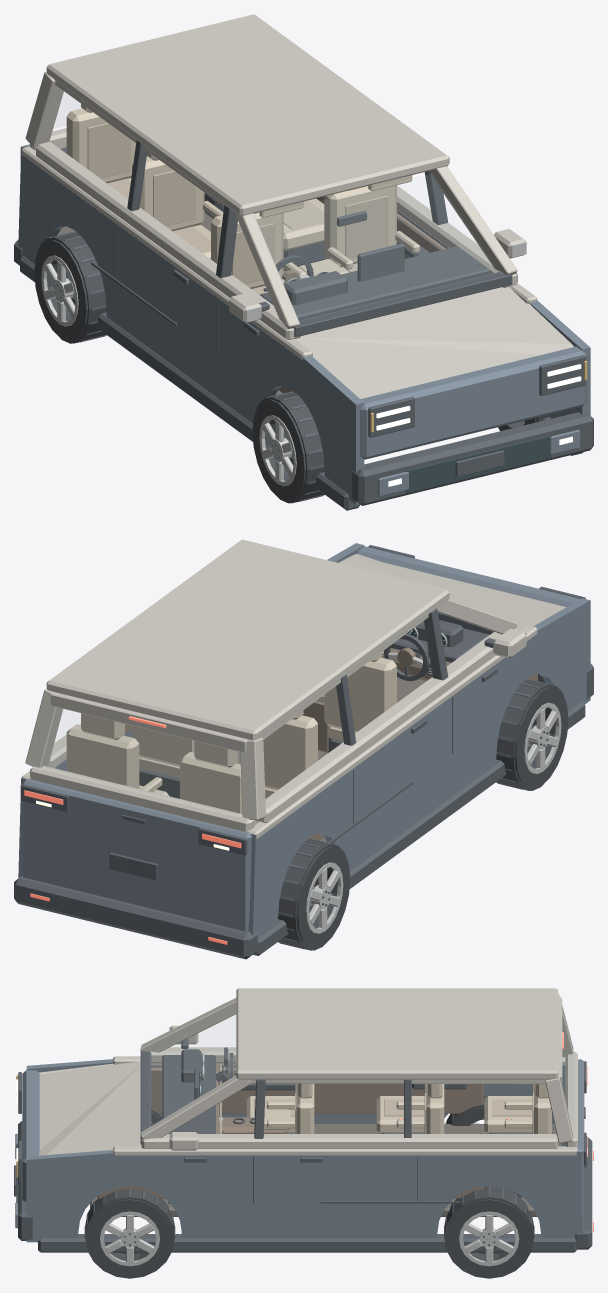
Rendered from OriginalMPV.glb.
3 renders of one model, top to bottom at view 1: azimuth 30°, elevation 25°; view 2: azimuth 150°, elevation 25°; view 3: azimuth 270°, elevation 25°, orthographic. The views are drawn at different scales.
Visible parts, largest first — view 1: RoofOuter, LowerSideLeft, HoodTop, FrontFascia, FrontBumper, CabinWindowSillLeft, DashboardTop, SideSillLeft, WindshieldLower, BeltLineLeft, FrontBumperInset, APillarRight (+30 smaller); view 2: RoofOuter, LowerSideLeft, RearLower, RearBumper, CabinWindowSillLeft, HoodTop, SideSillLeft, RearWindowLower, BackrestRearRight, BackrestFrontLeft, BackrestMiddleLeft, RearWindowTop (+28 smaller); view 3: LowerSideRight, RoofOuter, HoodTop, SideSillRight, CabinWindowSillRight, DoorInnerLeft, BeltLineRight, SidewallFrontRight0.139, SidewallRearRight0.139, DashboardTop, LowerSideLeft, APillarRight (+30 smaller).
Boxes of the visible parts, box(x1,y1,x2,y2) form: RoofOuter: box(46, 14, 449, 216); LowerSideLeft: box(18, 149, 364, 504); HoodTop: box(295, 286, 573, 398); FrontFascia: box(360, 346, 586, 459); FrontBumper: box(352, 412, 593, 505); CabinWindowSillLeft: box(36, 141, 301, 339); DashboardTop: box(260, 246, 489, 320); SideSillLeft: box(20, 256, 360, 510); WindshieldLower: box(294, 271, 512, 337); BeltLineLeft: box(21, 146, 312, 359); FrontBumperInset: box(406, 435, 551, 492); APillarRight: box(428, 166, 517, 274); RoofOuter: box(46, 539, 449, 740); LowerSideLeft: box(248, 598, 590, 938); RearLower: box(22, 778, 251, 931); RearBumper: box(14, 876, 257, 959); CabinWindowSillLeft: box(254, 628, 517, 822); HoodTop: box(338, 554, 566, 635); SideSillLeft: box(253, 701, 585, 955); RearWindowLower: box(30, 766, 254, 831); BackrestRearRight: box(66, 724, 139, 788); BackrestFrontLeft: box(324, 657, 396, 732); BackrestMiddleLeft: box(263, 715, 317, 790); RearWindowTop: box(50, 692, 247, 752); LowerSideRight: box(26, 1150, 582, 1242); RoofOuter: box(236, 988, 558, 1079); HoodTop: box(39, 1061, 141, 1155); SideSillRight: box(38, 1234, 576, 1252); CabinWindowSillRight: box(141, 1134, 557, 1148); DoorInnerLeft: box(151, 1067, 483, 1113); BeltLineRight: box(113, 1146, 577, 1155); SidewallFrontRight0.139: box(87, 1199, 172, 1277); SidewallRearRight0.139: box(446, 1199, 531, 1277); DashboardTop: box(162, 1055, 215, 1133); LowerSideLeft: box(26, 1059, 565, 1146); APillarRight: box(140, 1075, 251, 1139).
Size of the model in its own units: 2.55 by 2.06 by 5.49.
